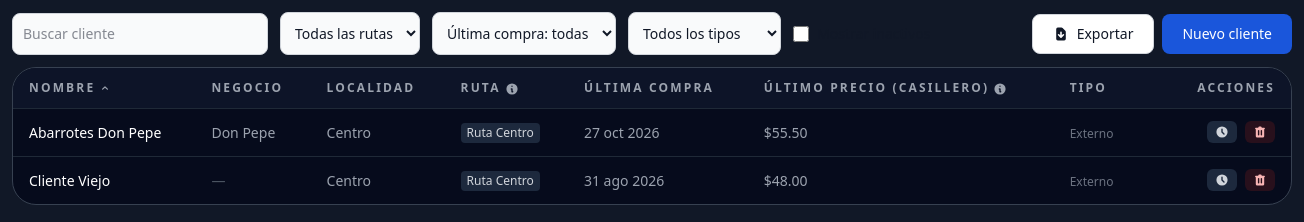
Test: ClientsTab › filtra clientes dormidos por días sin compra
Select "Sin compras +30 días" in the 2nd dropdown named "Última compra" at (524, 34), box [432, 12, 616, 55]
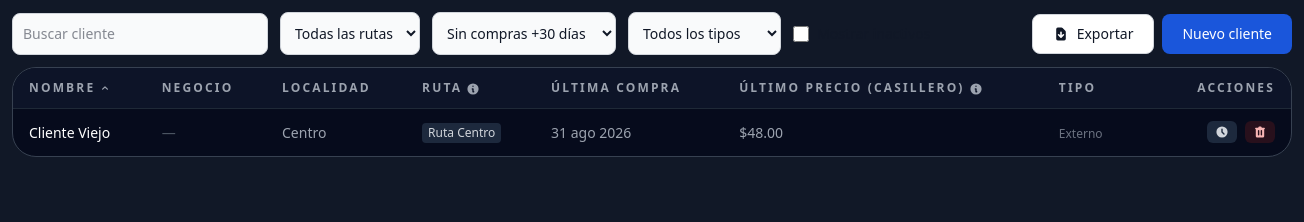
Check: the text "Cliente Viejo" is shown, box [29, 122, 110, 142]
Check: the text "Abarrotes Don Pepe" is gone
